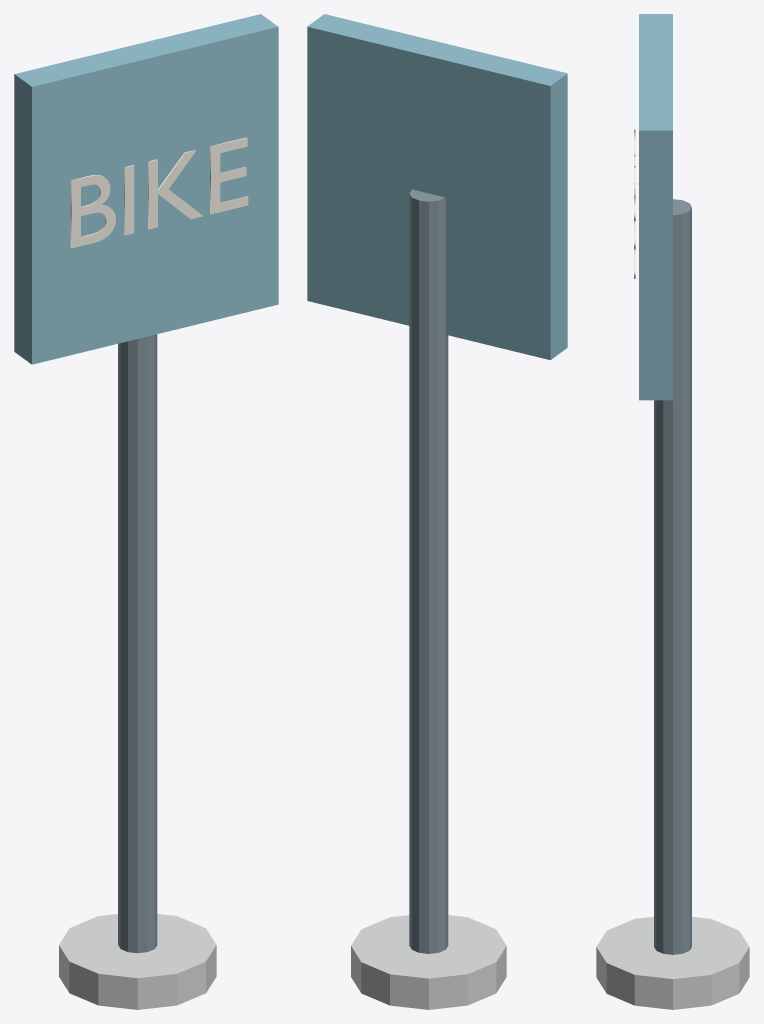
The model's file is bicycle.glb.
3 views of the same model, side by side, from view 1: azimuth 30°, elevation 25°; view 2: azimuth 150°, elevation 25°; view 3: azimuth 270°, elevation 25° (orthographic). The views are drawn at different scales.
Parts seen in each view (by area): view 1: bicycle_002, bicycle_000, bicycle_001, bicycle_003; view 2: bicycle_002, bicycle_000, bicycle_001; view 3: bicycle_000, bicycle_002, bicycle_001.
Boxes of the visible parts, x1,y1,x2,y2 form: bicycle_002: [14, 14, 278, 364]; bicycle_000: [118, 334, 157, 953]; bicycle_001: [59, 914, 216, 1009]; bicycle_003: [70, 137, 248, 248]; bicycle_002: [307, 14, 567, 360]; bicycle_000: [409, 189, 448, 953]; bicycle_001: [351, 915, 506, 1009]; bicycle_000: [654, 199, 691, 954]; bicycle_002: [639, 14, 672, 400]; bicycle_001: [596, 916, 749, 1009].
Bounding box in the file's own units: 0.65 × 2.35 × 0.36.
